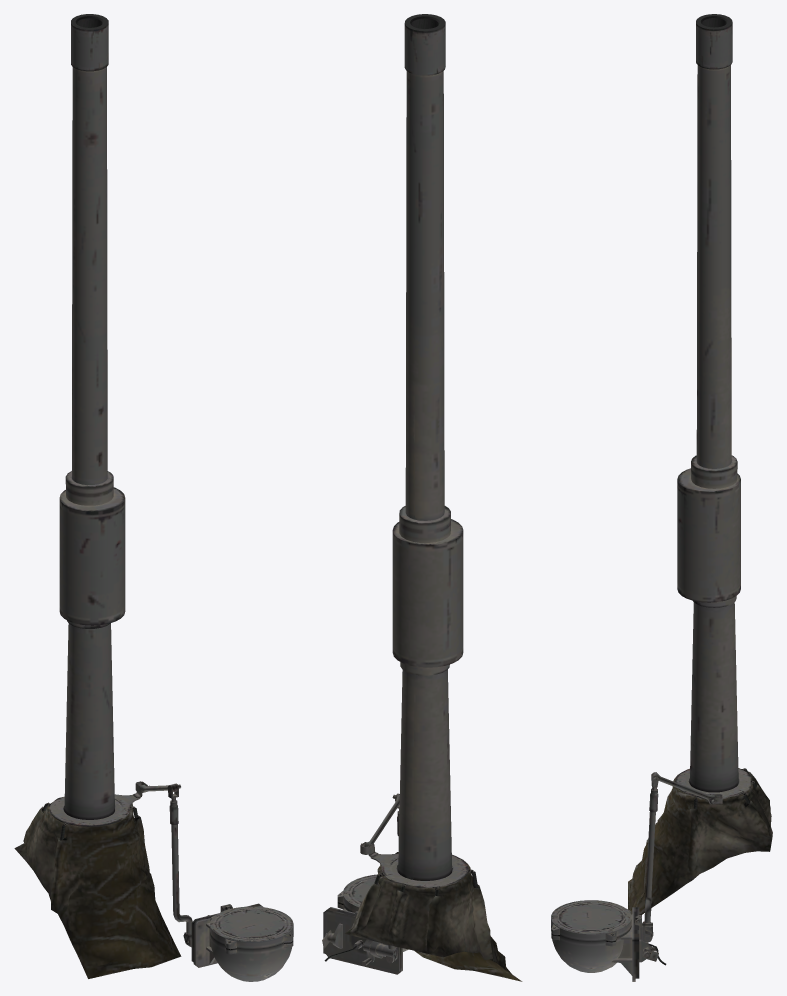
File: Gun_02.glb
3 renders of one model, left to right at view 1: azimuth 30°, elevation 25°; view 2: azimuth 150°, elevation 25°; view 3: azimuth 270°, elevation 25°, orthographic. The views are drawn at different scales.
Visible parts, largest first — view 1: set_0_group_0; view 2: set_0_group_0; view 3: set_0_group_0.
Part boxes in pixels (left/top/right/bottom): set_0_group_0: left=14, top=14, right=293, bottom=981; set_0_group_0: left=322, top=14, right=522, bottom=981; set_0_group_0: left=551, top=14, right=772, bottom=981.
Size of the model in its own units: 0.8847 by 4.25 by 0.9495.
Materials: 1 (1 with a texture image).
